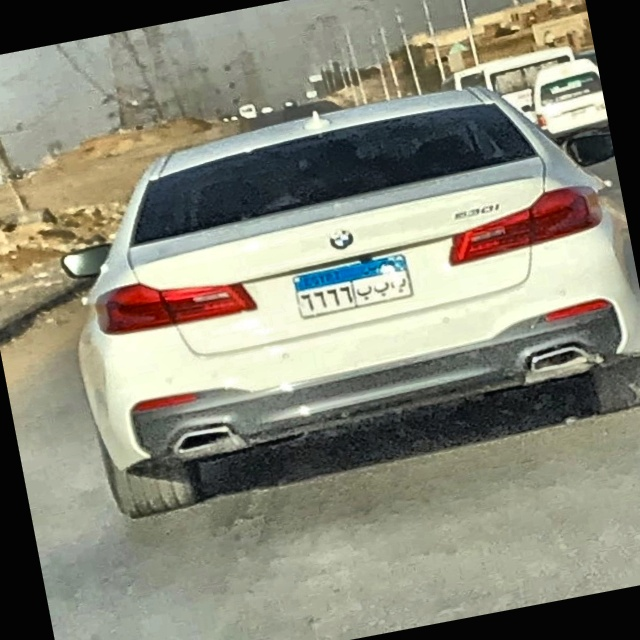License Plate: (290, 252, 416, 321)
